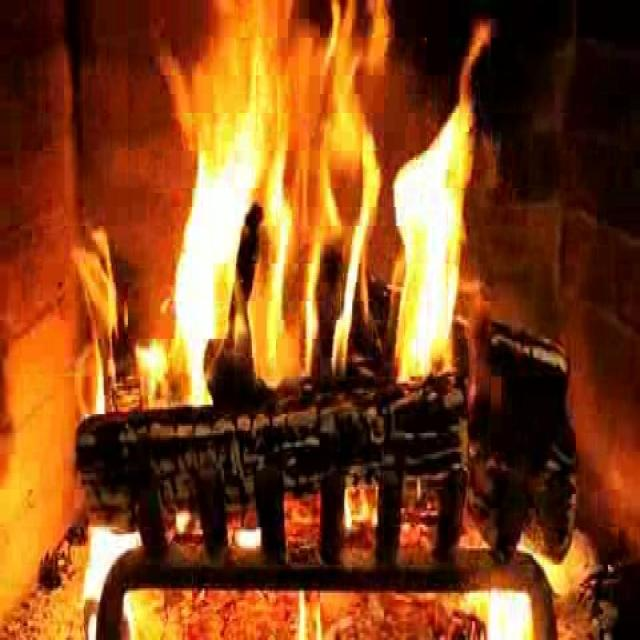fire: (133, 20, 489, 436)
